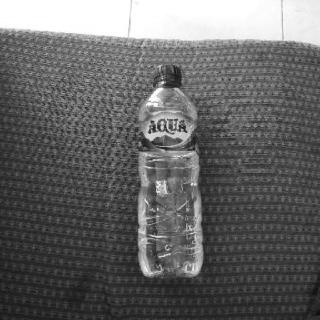plastic_bottles: (135, 62, 207, 281)
